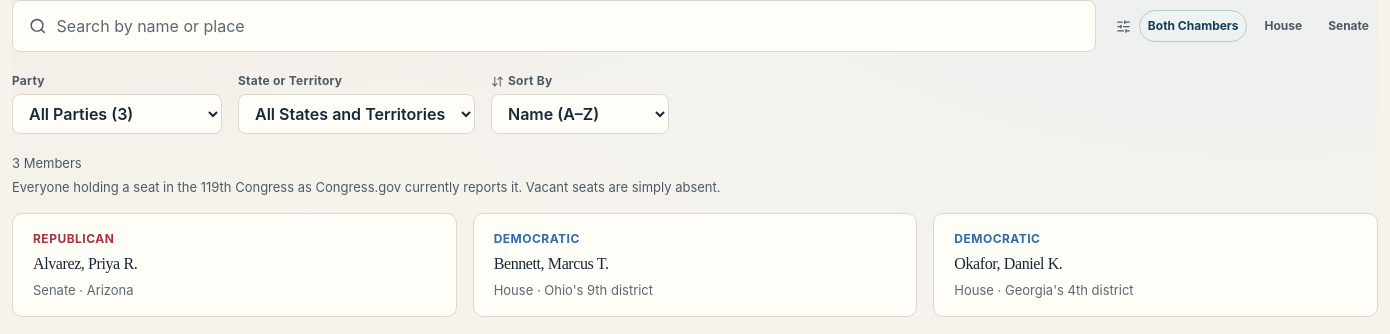
Test: MemberDirectory › says how many of the whole roster are showing once filtered
Click the button "Senate" at (1349, 26), box [1319,10,1378,42]
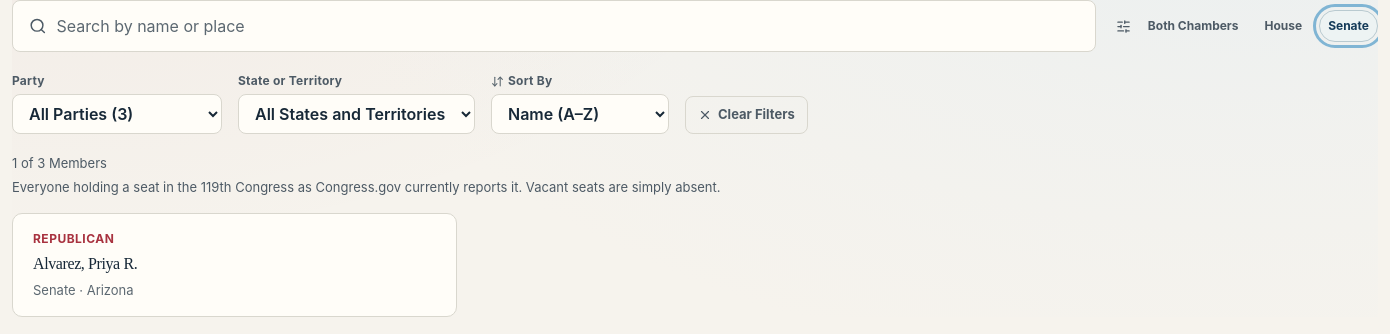
Check: the text "1 of 3 Members" is shown, box [12,155,107,171]
